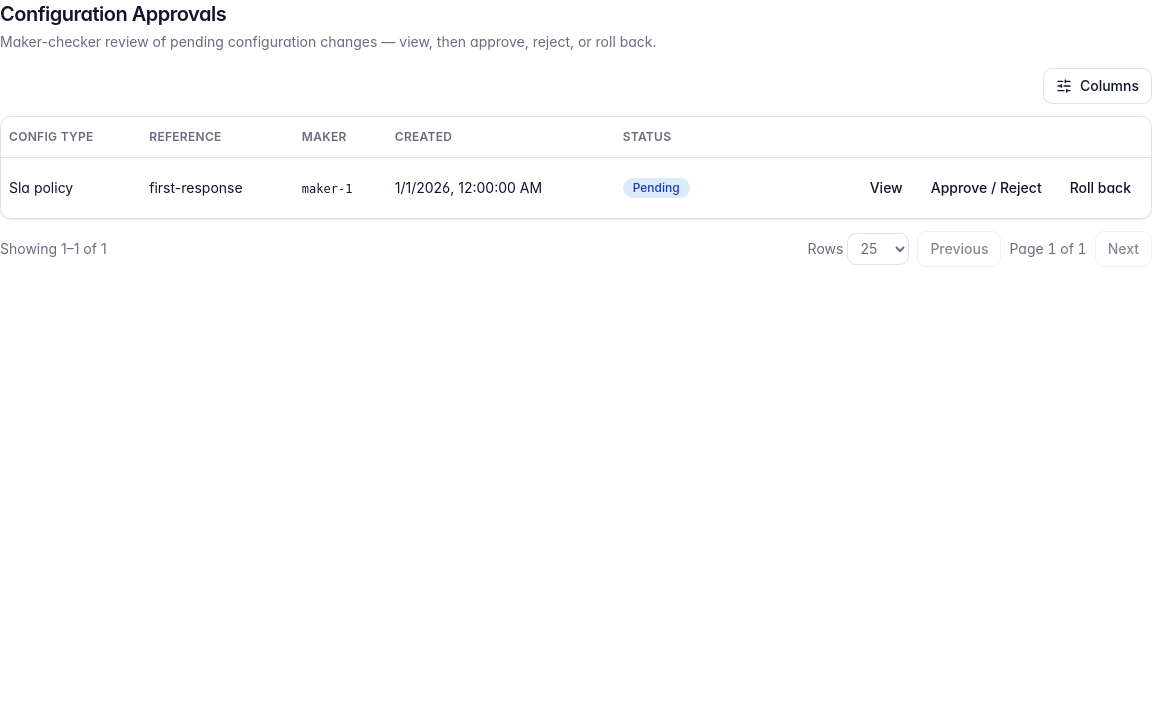
ConfigGovernancePage › opens the rollback dialog from a row action
Click the button "Roll back": (1100, 188) [1058, 170, 1143, 206]
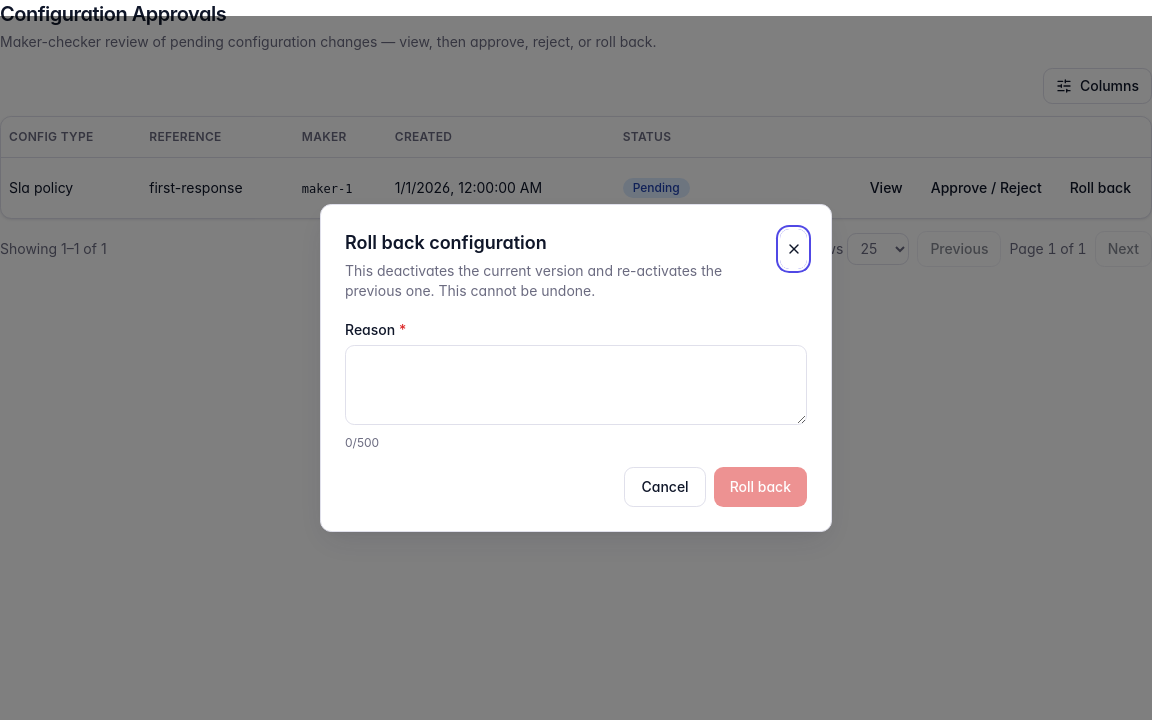
expect the heading "Roll back configuration" is shown: met, box [345, 232, 547, 253]
expect the text box labelled "Reason *" is shown: met, box [345, 345, 807, 425]
